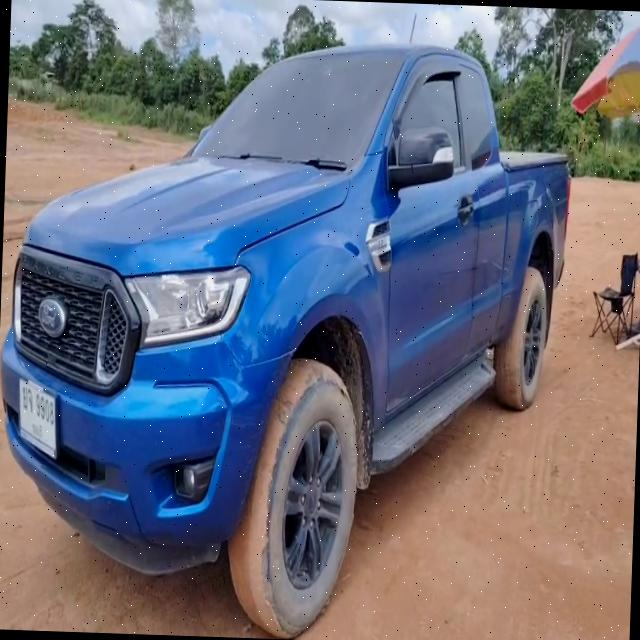Digit: (35, 392, 54, 426)
Licenseplate: (19, 378, 57, 460)
Provincename: (32, 420, 43, 441)
Thaichar: (22, 385, 33, 412)
